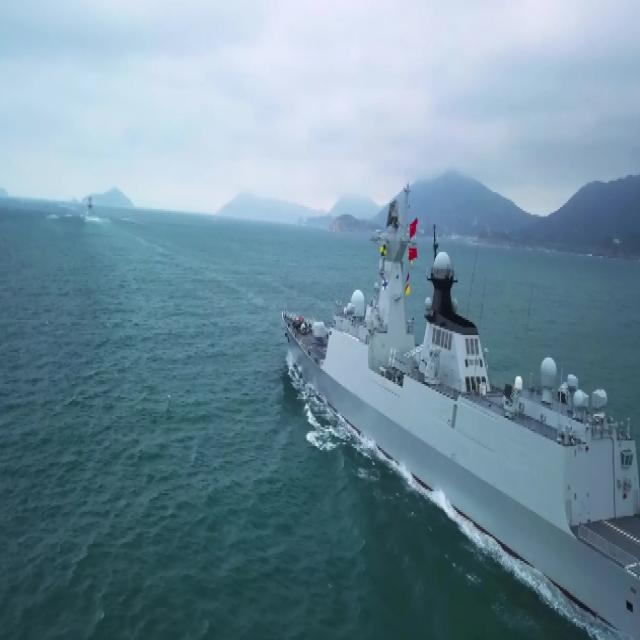navalvessels: (283, 198, 640, 631)
